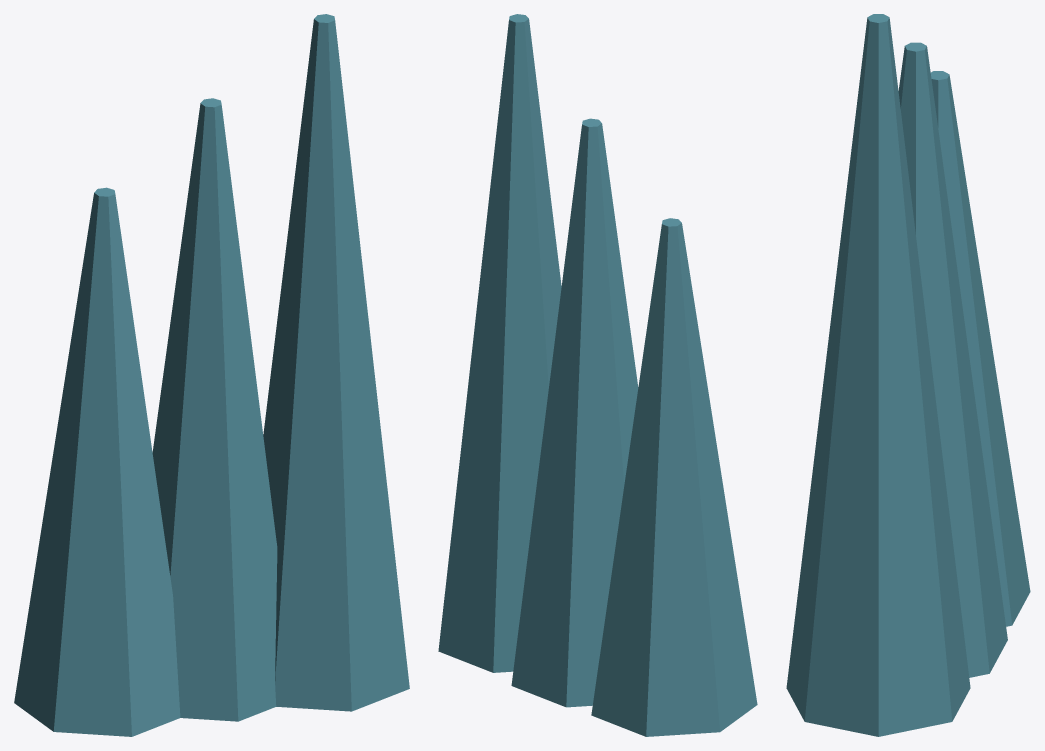
The model's file is map-boundaries-v5__frost_09.glb.
3 renders of one model, left to right at view 1: azimuth 30°, elevation 25°; view 2: azimuth 150°, elevation 25°; view 3: azimuth 270°, elevation 25°, orthographic. The views are drawn at different scales.
Parts seen in each view (by area): view 1: frost_09; view 2: frost_09; view 3: frost_09.
Boxes of the visible parts, x1=… form: frost_09: x1=14, y1=14, x2=409, y2=736; frost_09: x1=438, y1=14, x2=757, y2=736; frost_09: x1=786, y1=14, x2=1030, y2=736.
Bounding box in the file's own units: 1.25 × 2.3 × 0.7494.
